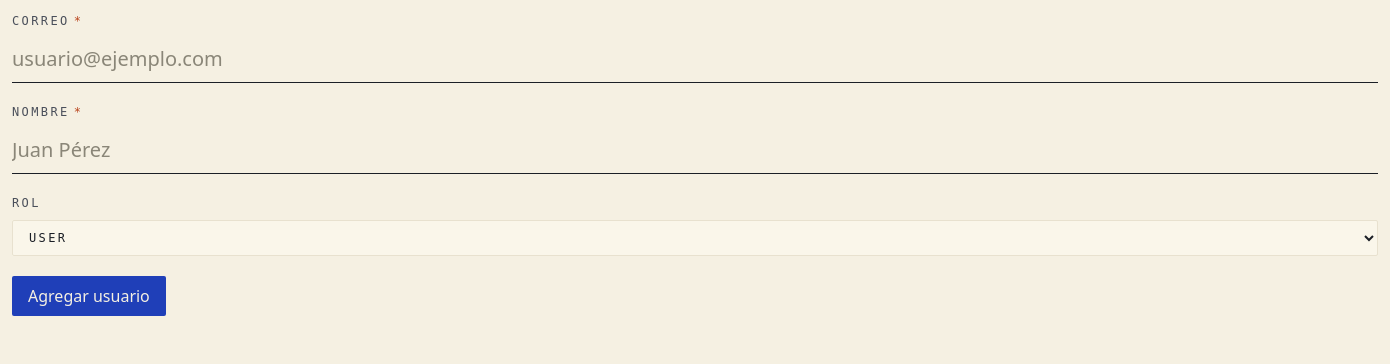
Test: UserForm › submitting with a valid email but missing name surfaces only the name error
Type "jane@example.com" into the field labelled "Correo*" at [695, 60], box x1=12 y1=36 x2=1378 y2=83
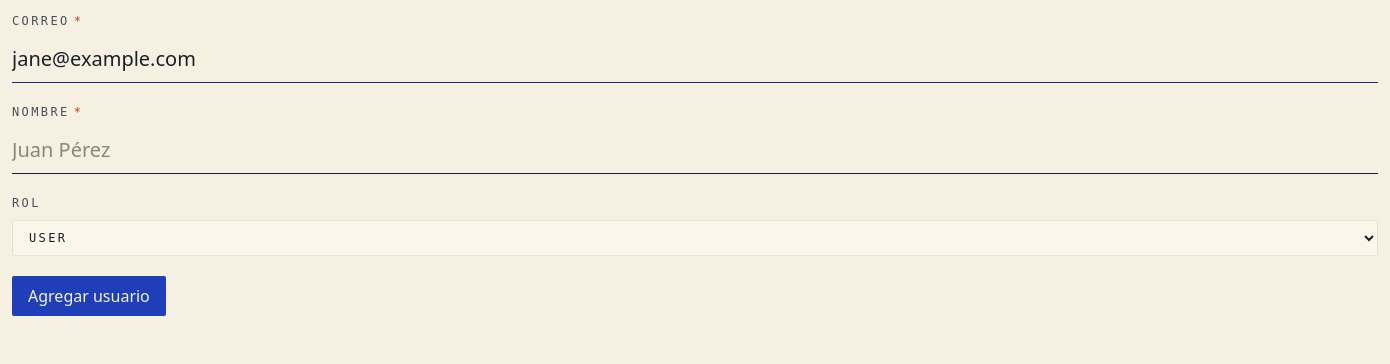
Click the button "Agregar usuario" at [89, 296], box x1=12 y1=276 x2=166 y2=316
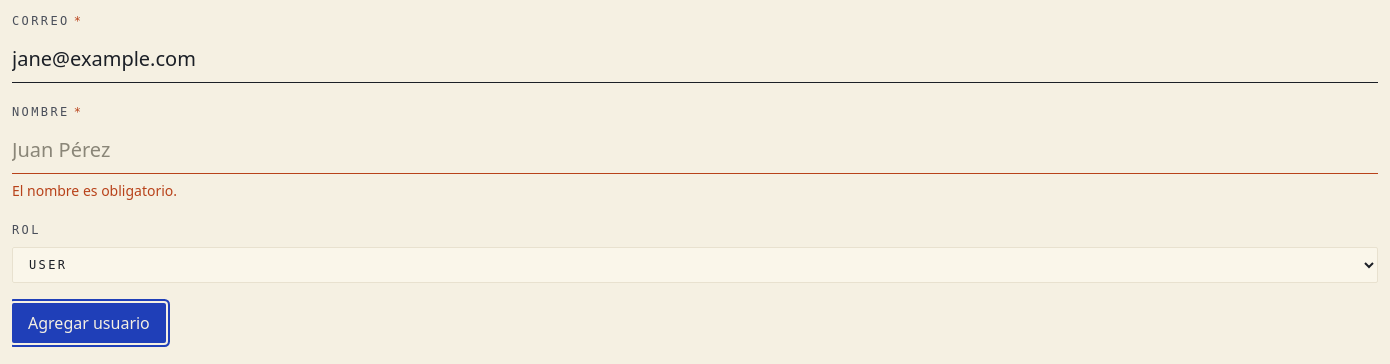
Check: the text "El nombre es obligatorio." is shown, box x1=12 y1=181 x2=177 y2=200
